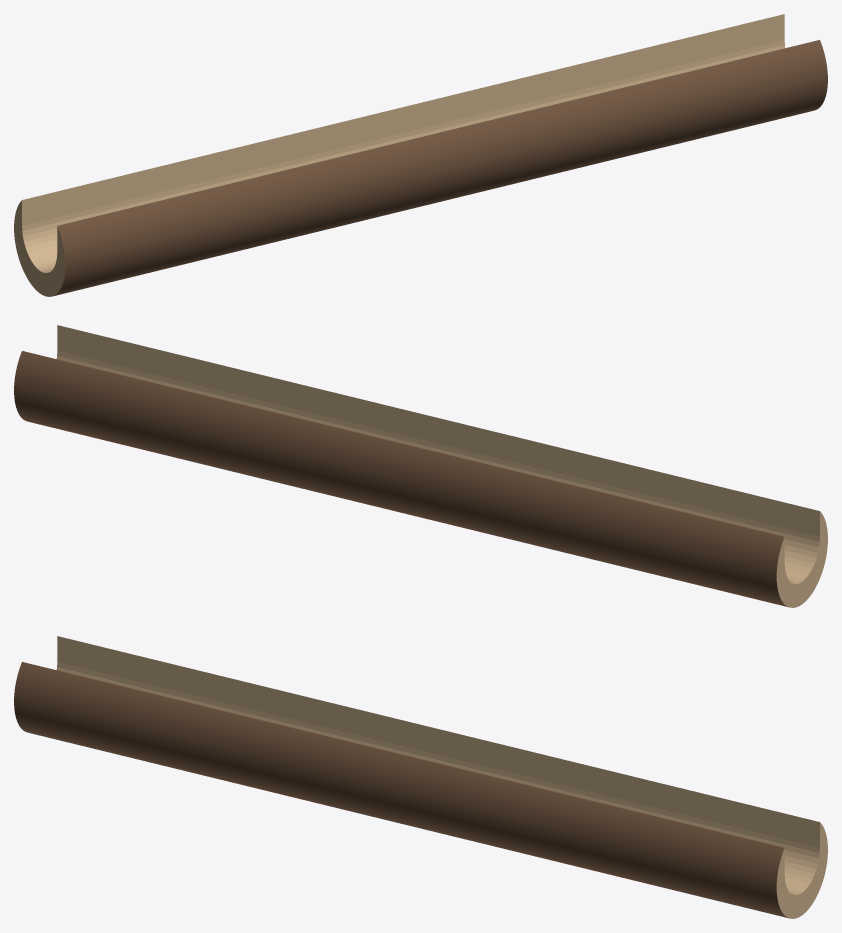
File: SM_RawLog_300_Gutter.fbx
3 renders of one model, top to bottom at view 1: azimuth 30°, elevation 25°; view 2: azimuth 150°, elevation 25°; view 3: azimuth 330°, elevation 25°, orthographic.
Parts seen in each view (by area): view 1: RawLog_300_Gutter; view 2: RawLog_300_Gutter; view 3: RawLog_300_Gutter.
Part boxes in pixels (<box>): RawLog_300_Gutter: <box>14,14,827,296</box>; RawLog_300_Gutter: <box>14,325,827,607</box>; RawLog_300_Gutter: <box>14,636,827,918</box>.
Size of what is drawn, in the model's own units: 3 by 0.302 by 0.35.
